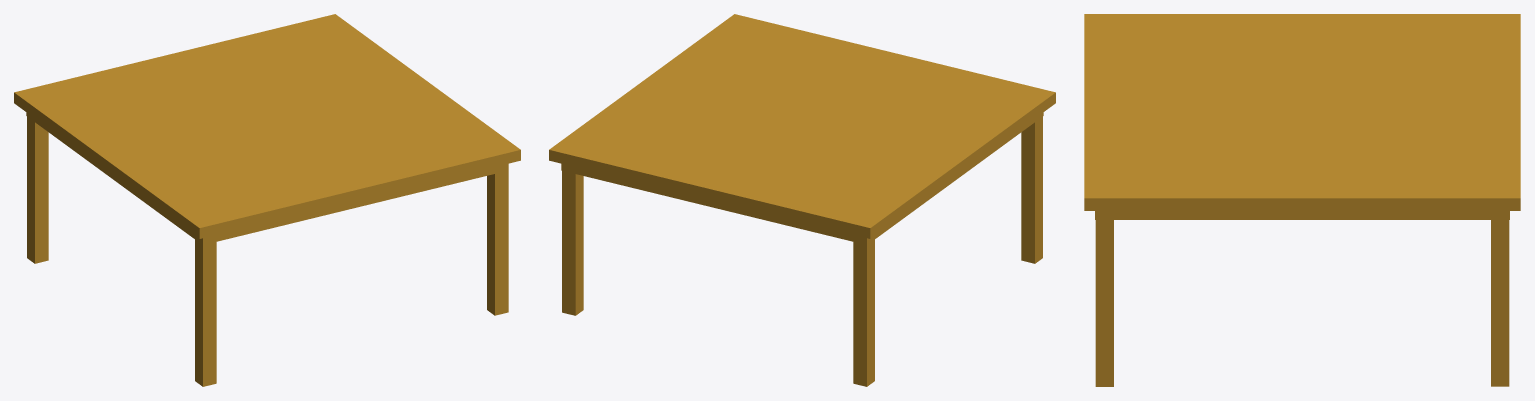
The model's file is table.fbx.
3 renders of one model, left to right at view 1: azimuth 30°, elevation 25°; view 2: azimuth 150°, elevation 25°; view 3: azimuth 270°, elevation 25°, orthographic. The views are drawn at different scales.
Visible parts, largest first — view 1: table; view 2: table; view 3: table.
Part boxes in pixels (bbox=[...]): table: bbox=[14, 14, 520, 386]; table: bbox=[549, 14, 1055, 386]; table: bbox=[1084, 14, 1520, 386].
Bounding box in the file's own units: 1.65 × 0.8051 × 1.65.
